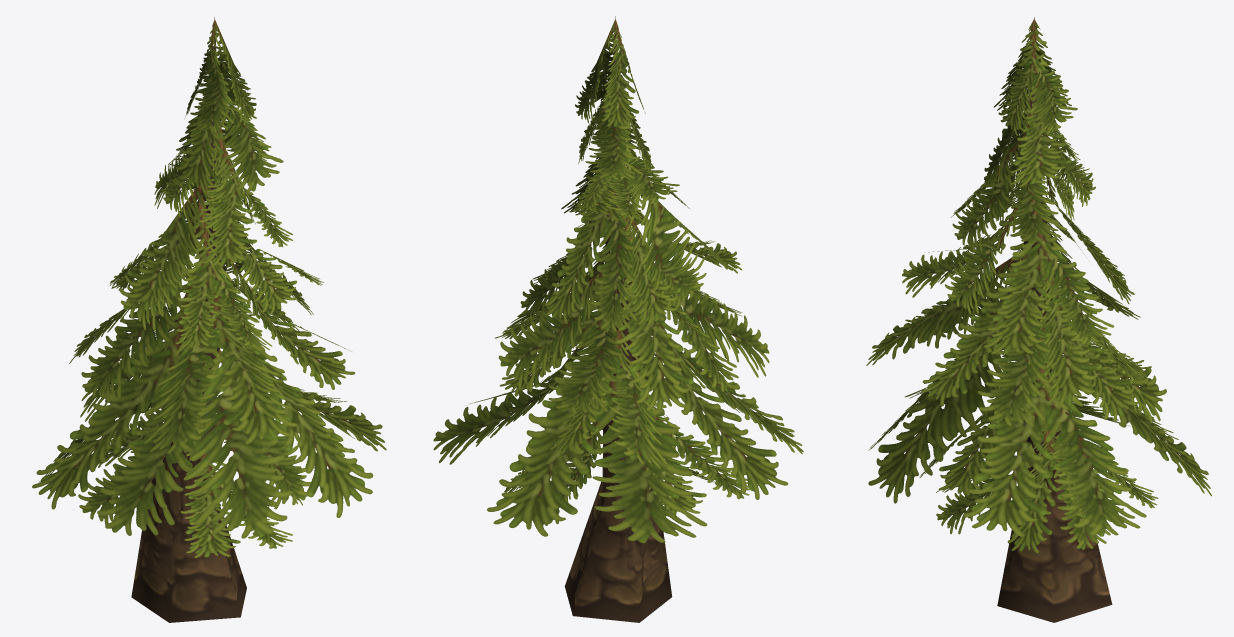
The model's file is tree_conifer_04.fbx.
The picture shows the model from 3 angles, left to right: view 1: azimuth 30°, elevation 25°; view 2: azimuth 150°, elevation 25°; view 3: azimuth 270°, elevation 25°; orthographic projection. The views are drawn at different scales.
Parts seen in each view (by area): view 1: tree_conifer_04; view 2: tree_conifer_04; view 3: tree_conifer_04.
Boxes of the visible parts, box(x1,y1,x2,y2) form: tree_conifer_04: box(32, 17, 386, 622); tree_conifer_04: box(433, 16, 803, 622); tree_conifer_04: box(866, 17, 1211, 622).
Bounding box in the file's own units: 414 × 654 × 378.
